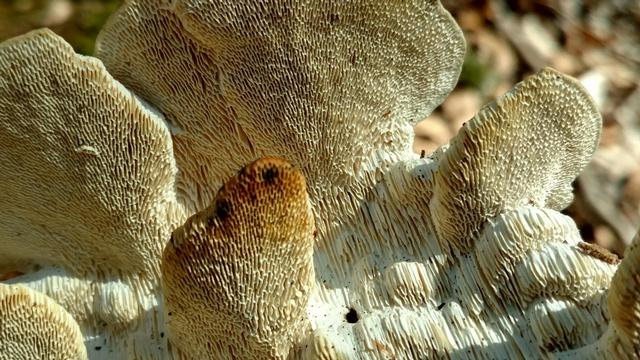Non-edible Mushroom: (0, 1, 640, 360)
